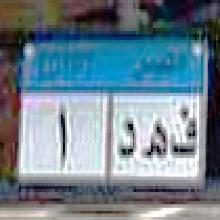1: (54, 100, 73, 168)
daal: (116, 112, 136, 163)
faa: (170, 103, 198, 166)
haa: (141, 117, 169, 166)
